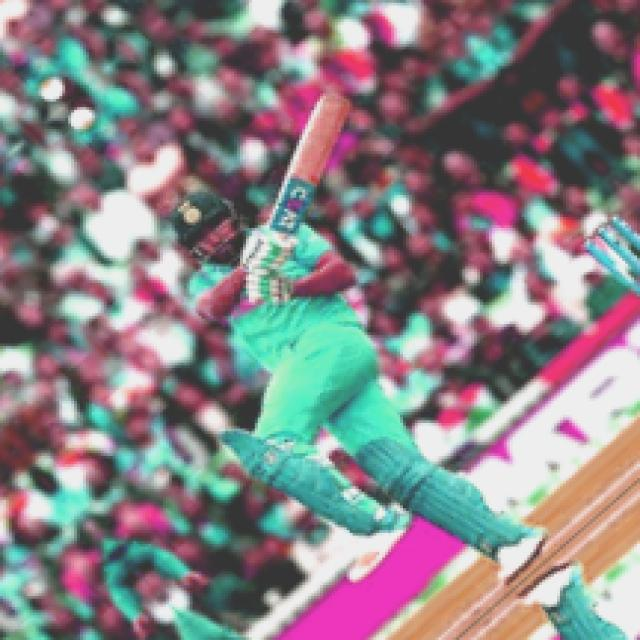toe: (316, 90, 358, 118)
